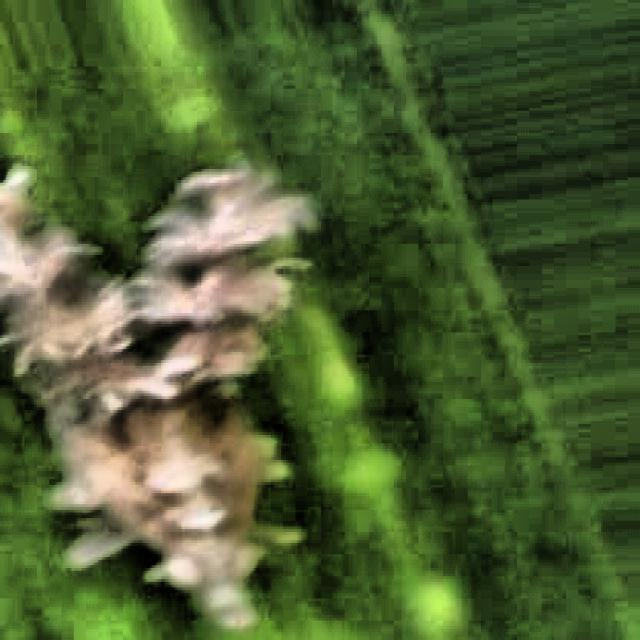Pyrilla-perpusilla: (0, 66, 395, 639)
